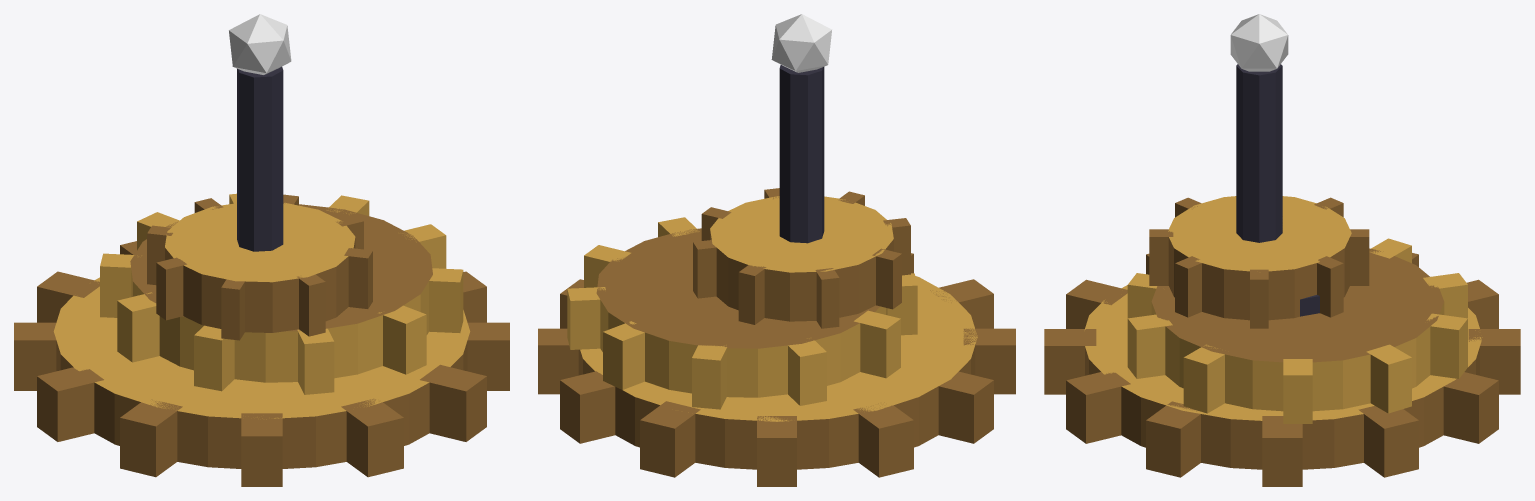
Rendered from Set_GearStack.fbx.
3 renders of one model, left to right at view 1: azimuth 30°, elevation 25°; view 2: azimuth 150°, elevation 25°; view 3: azimuth 270°, elevation 25°, orthographic. The views are drawn at different scales.
Visible parts, largest first — view 1: Set_GearStack; view 2: Set_GearStack; view 3: Set_GearStack.
Boxes of the visible parts, left/top/right/bottom form: Set_GearStack: left=14, top=14, right=509, bottom=486; Set_GearStack: left=538, top=14, right=1015, bottom=486; Set_GearStack: left=1044, top=14, right=1520, bottom=486.
Size of what is drawn, in the model's own units: 6.19 by 5.24 by 6.19.
Materials: 2 (1 with a texture image).
